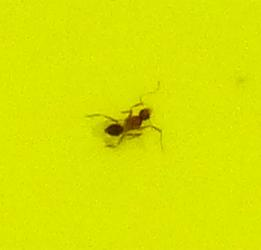Hymenoptera: (100, 100, 161, 150)
